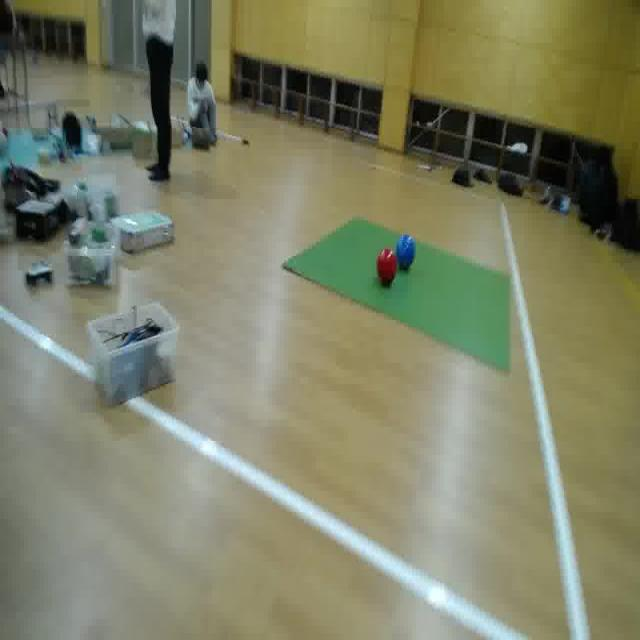blue_ball: (394, 231, 417, 274)
red_ball: (375, 247, 397, 284)
